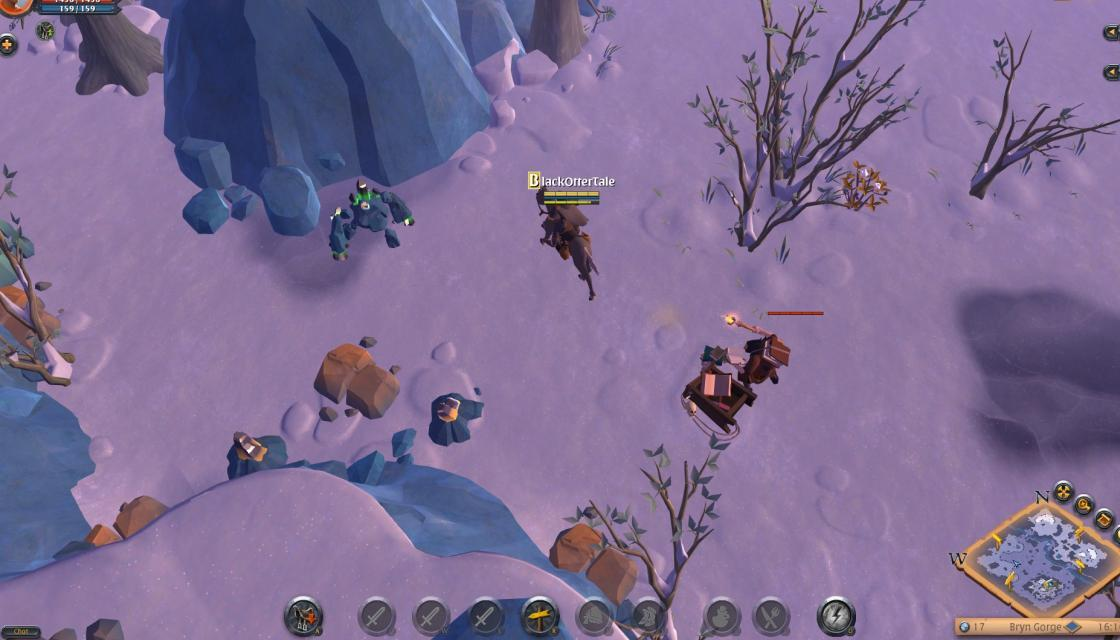copperore: (221, 428, 291, 480), (426, 388, 482, 446)
limestone: (312, 338, 400, 422), (547, 522, 637, 602), (84, 491, 176, 551), (0, 283, 58, 351)
sandstone: (0, 219, 36, 283)
